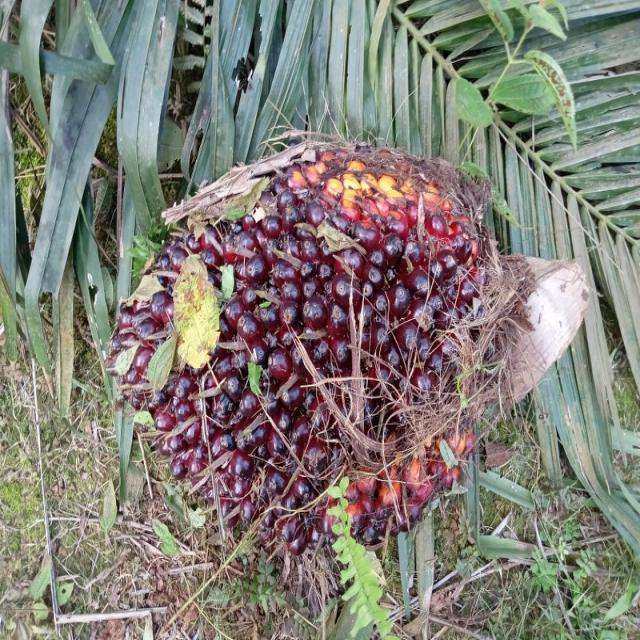fraksi 1: (92, 79, 564, 612)
